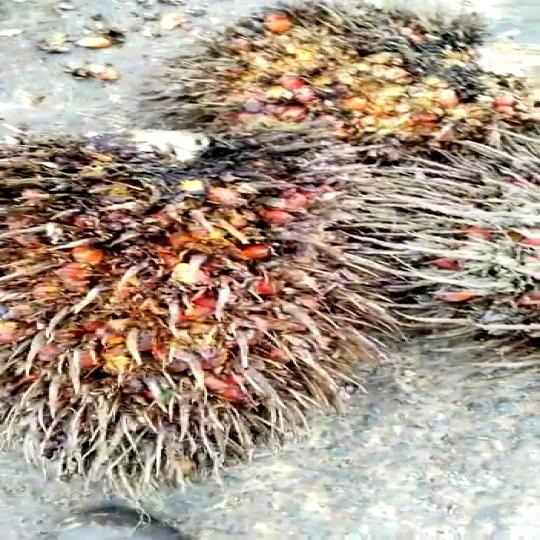terlalu masak: (0, 138, 366, 448), (140, 11, 537, 170)
